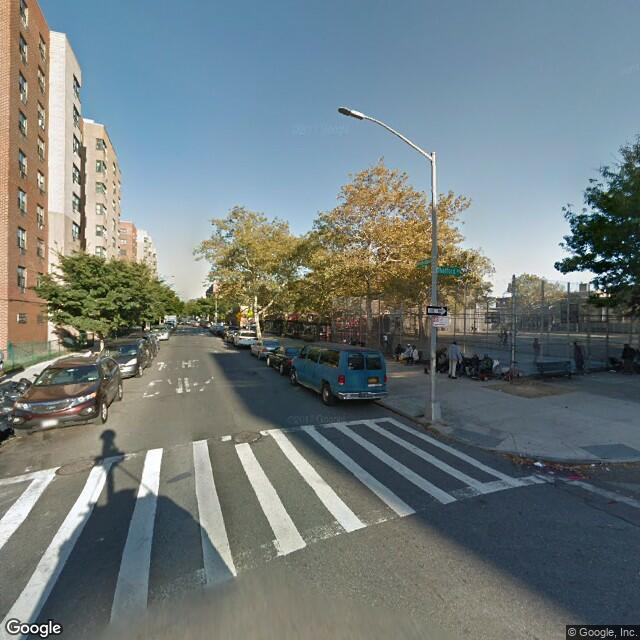litter: (535, 461, 543, 467), (589, 462, 595, 465), (604, 468, 611, 470)
